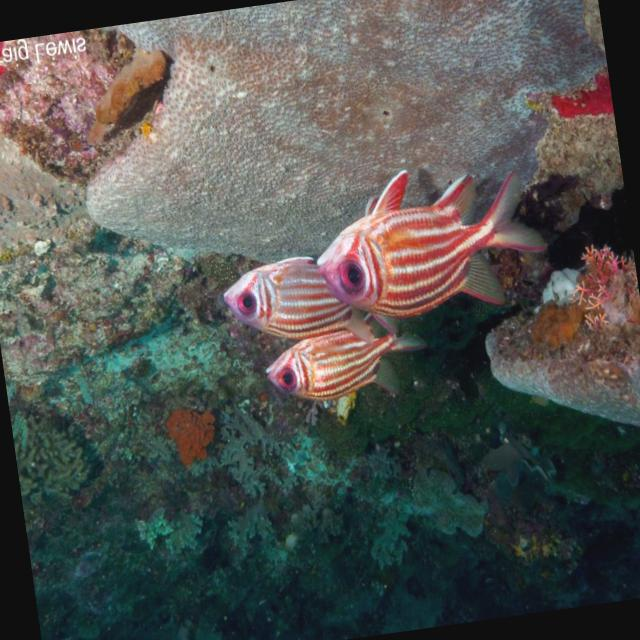Asker Baligi: (294, 136, 570, 350)
